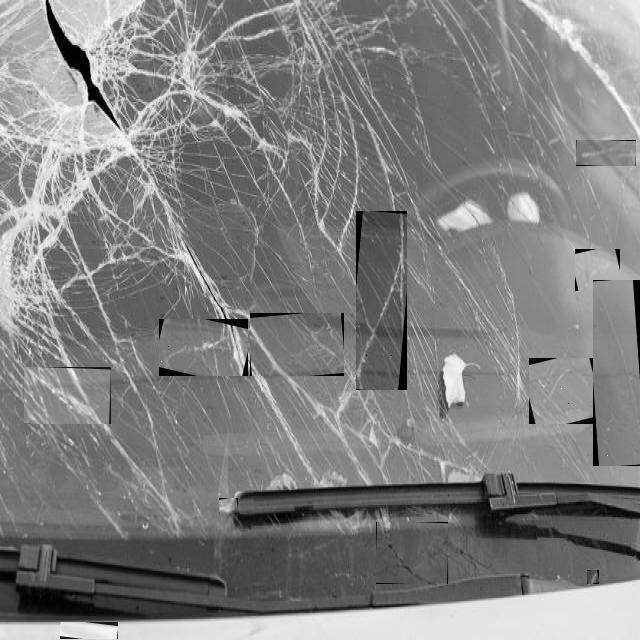Dent: (356, 211, 407, 390), (593, 280, 640, 466), (250, 313, 344, 376), (159, 319, 248, 376), (24, 367, 111, 424), (529, 358, 597, 424), (376, 522, 448, 584), (575, 249, 620, 291), (576, 140, 636, 166), (60, 622, 118, 639), (219, 498, 238, 514), (587, 570, 599, 584)
